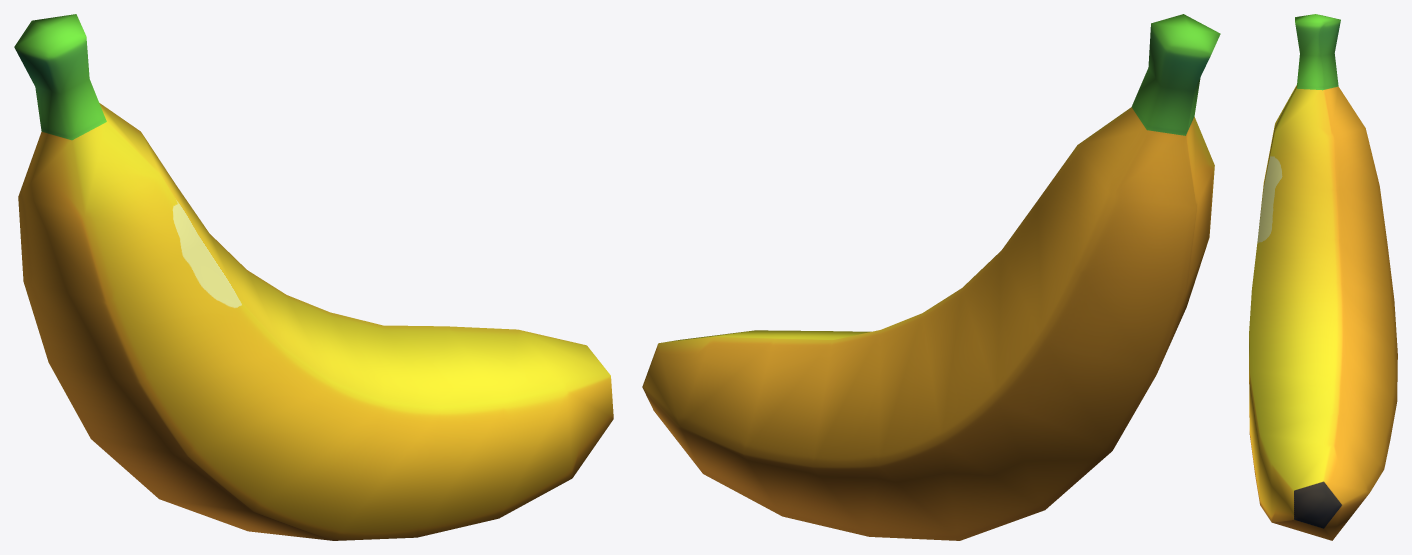
The model's file is geo_CollectibleBanana.fbx.
3 views of the same model, side by side, from view 1: azimuth 30°, elevation 25°; view 2: azimuth 150°, elevation 25°; view 3: azimuth 270°, elevation 25° (orthographic). The views are drawn at different scales.
Parts seen in each view (by area): view 1: geo_CollectibleBanana; view 2: geo_CollectibleBanana; view 3: geo_CollectibleBanana.
Part boxes in pixels (left/top/right/bottom): geo_CollectibleBanana: left=14, top=14, right=613, bottom=540; geo_CollectibleBanana: left=642, top=14, right=1220, bottom=540; geo_CollectibleBanana: left=1249, top=14, right=1397, bottom=540.
Bounding box in the file's own units: 75.22 × 72.9 × 25.48.
